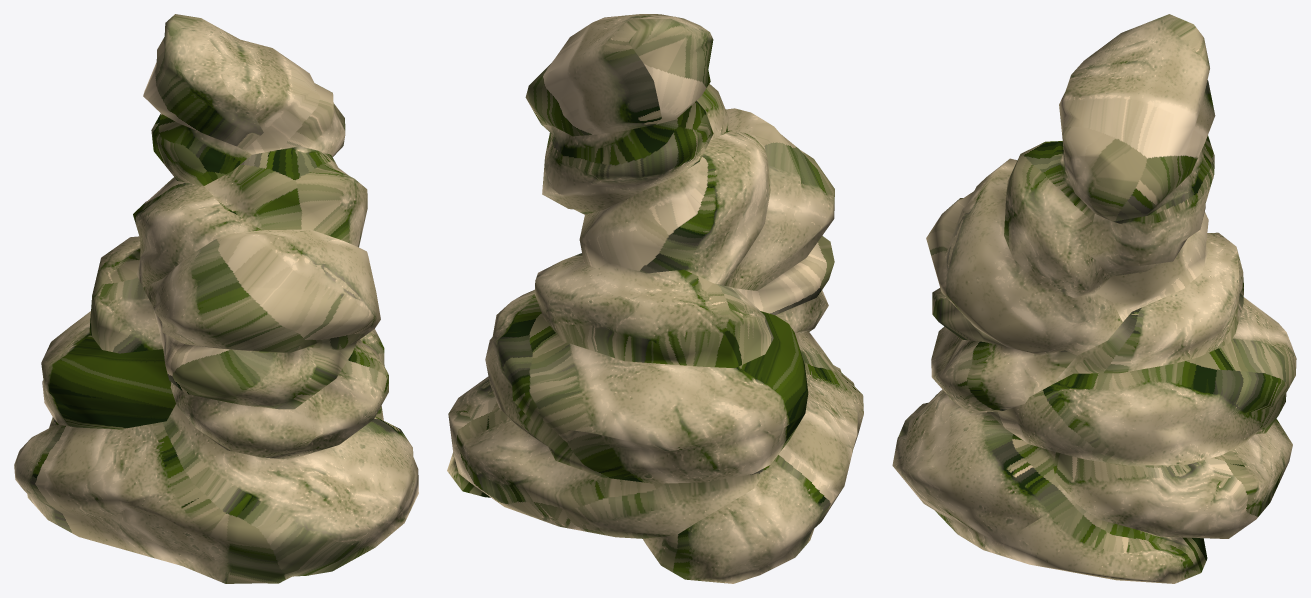
Rendered from Rock_3_low_UV.FBX.
3 views of the same model, side by side, from view 1: azimuth 30°, elevation 25°; view 2: azimuth 150°, elevation 25°; view 3: azimuth 270°, elevation 25° (orthographic). The views are drawn at different scales.
Parts seen in each view (by area): view 1: Canyon_1_Zbrush_Combine; view 2: Canyon_1_Zbrush_Combine; view 3: Canyon_1_Zbrush_Combine.
Boxes of the visible parts, x1,y1,x2,y2 form: Canyon_1_Zbrush_Combine: (14,14,418,583); Canyon_1_Zbrush_Combine: (447,14,863,583); Canyon_1_Zbrush_Combine: (892,14,1296,583).
Size of the model in its own units: 3334 by 4307 by 3260.
